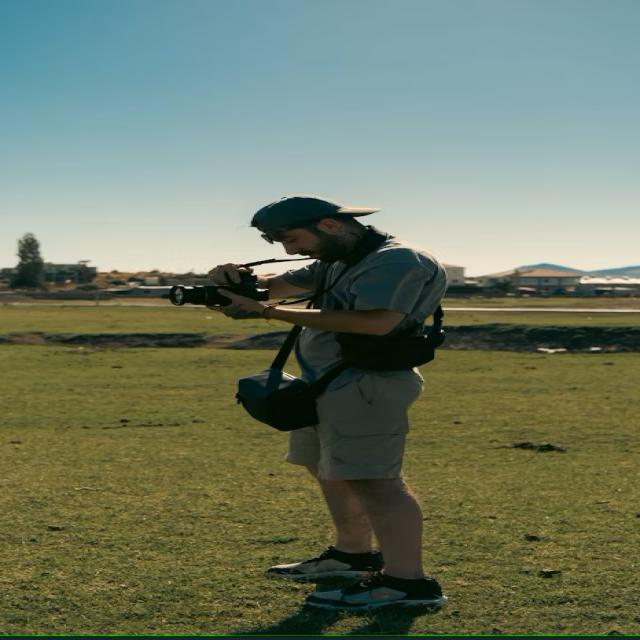Edited images: (132, 182, 534, 633)
